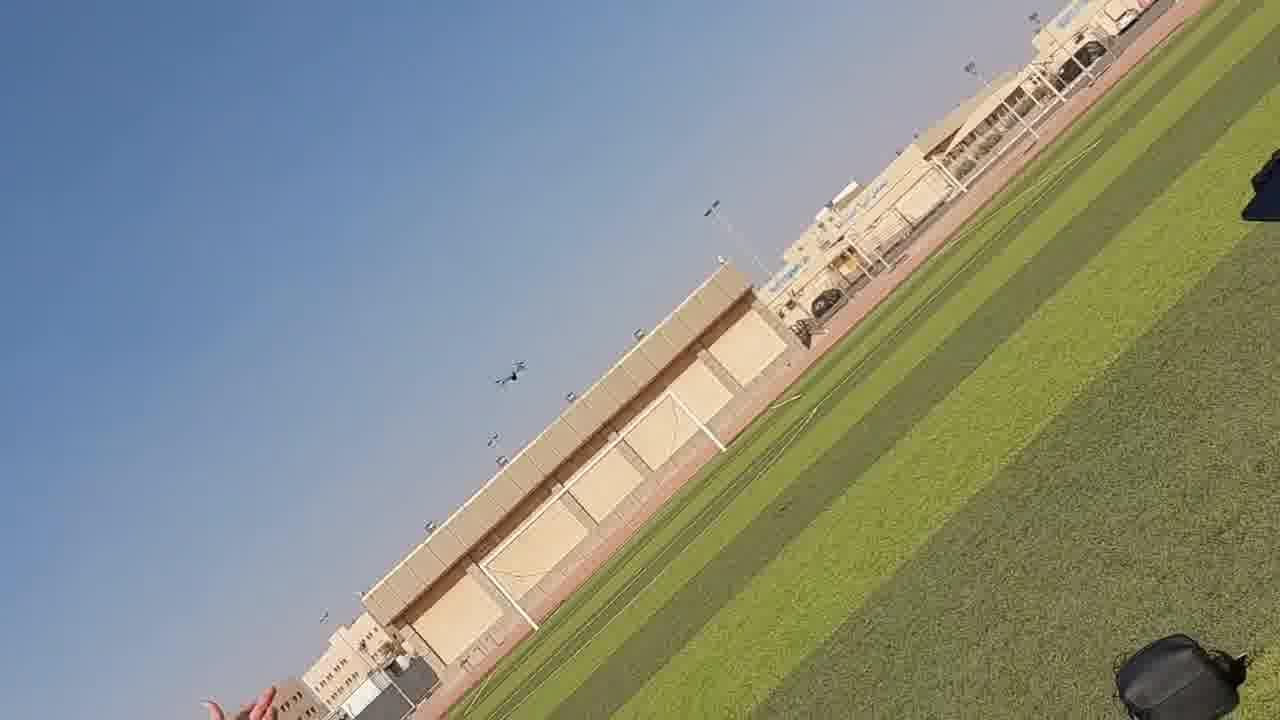drone: (488, 347, 533, 400)
